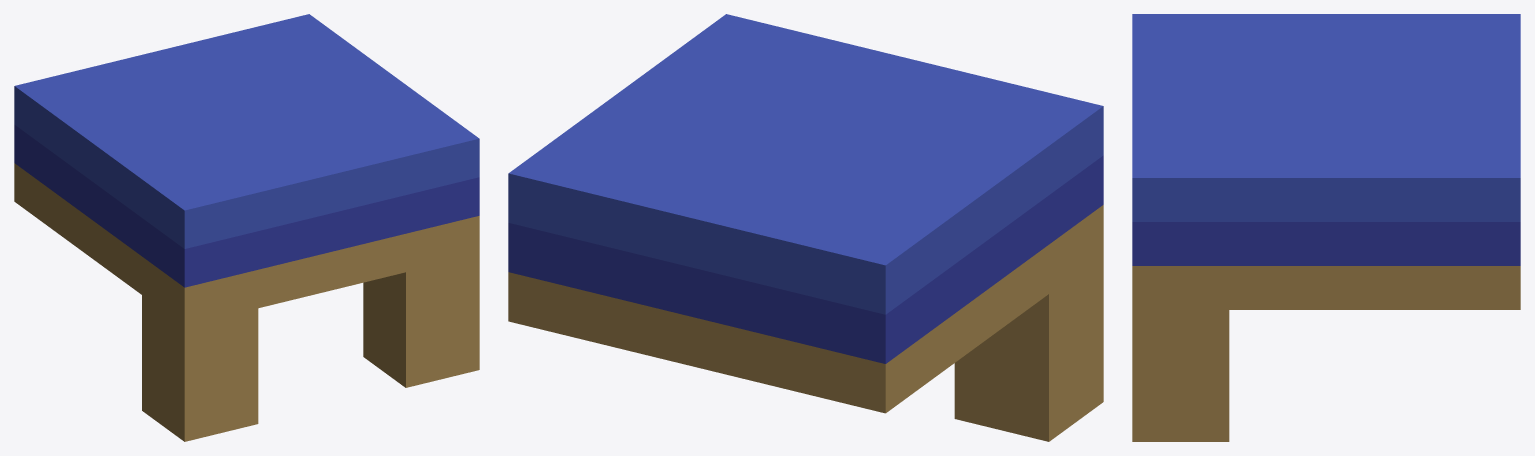
Rendered from Blue Bed.glb.
3 renders of one model, left to right at view 1: azimuth 30°, elevation 25°; view 2: azimuth 150°, elevation 25°; view 3: azimuth 270°, elevation 25°, orthographic. The views are drawn at different scales.
Visible parts, largest first — view 1: Untitled; view 2: Untitled; view 3: Untitled.
Boxes of the visible parts, x1,y1,x2,y2 form: Untitled: (14,14,479,441); Untitled: (508,14,1103,441); Untitled: (1132,14,1520,441).
Bounding box in the file's own units: 1.6 × 1.2 × 1.6.
1 material, 1 textured.
